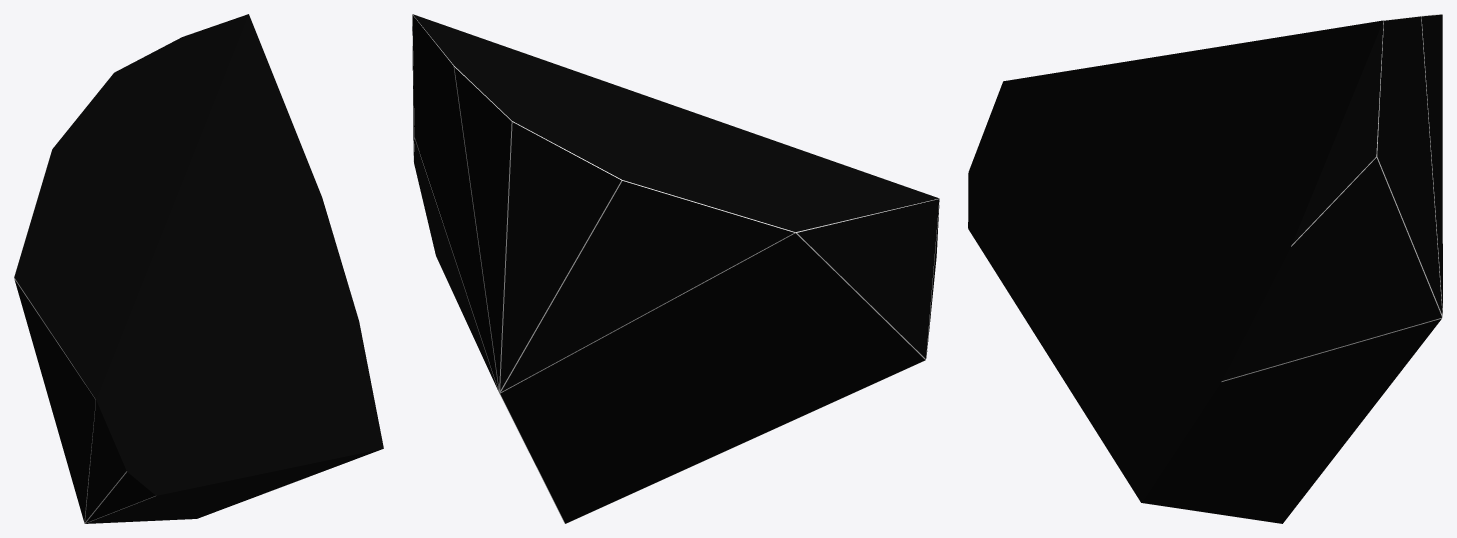
File: Project02.glb
3 views of the same model, side by side, from view 1: azimuth 30°, elevation 25°; view 2: azimuth 150°, elevation 25°; view 3: azimuth 270°, elevation 25° (orthographic). The views are drawn at different scales.
Visible parts, largest first — view 1: project05; view 2: project05; view 3: project05.
Part boxes in pixels (x1,y1,x2,y2): project05: (14,14,383,523); project05: (412,14,939,523); project05: (968,14,1442,523).
Bounding box in the file's own units: 1.19 × 1.47 × 1.13.
2 materials, 1 textured.
